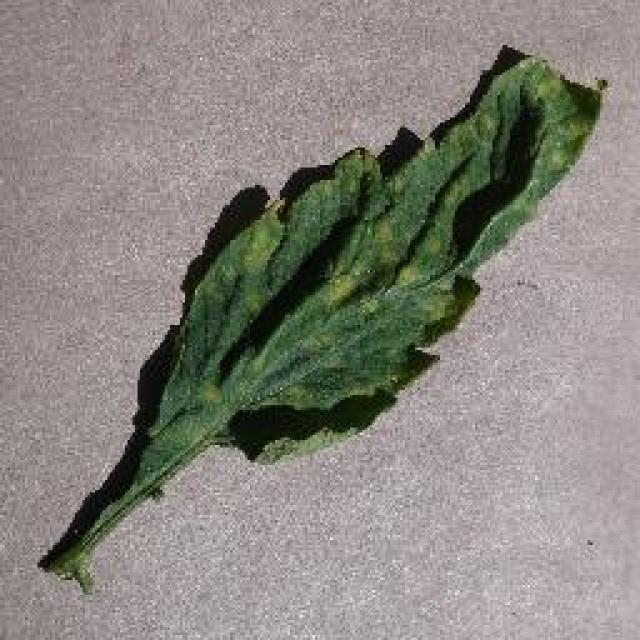Tomato mold leaf: (156, 53, 602, 462)
